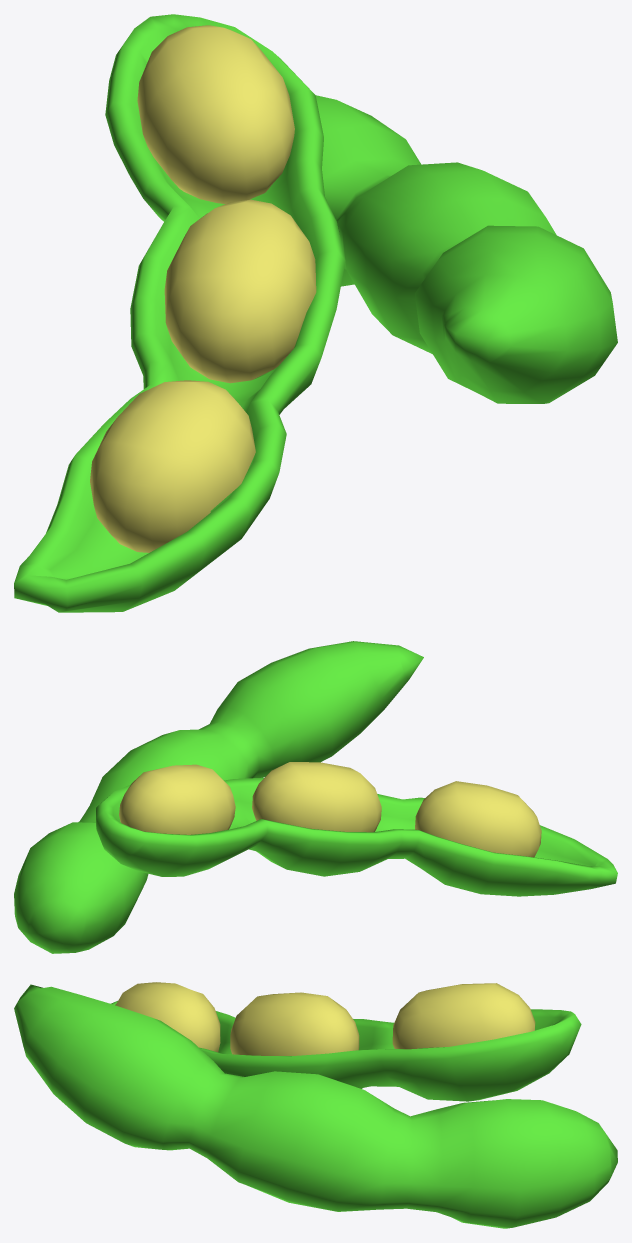
The model's file is Bobs.fbx.
3 renders of one model, top to bottom at view 1: azimuth 30°, elevation 25°; view 2: azimuth 150°, elevation 25°; view 3: azimuth 270°, elevation 25°, orthographic. The views are drawn at different scales.
Visible parts, largest first — view 1: soya; view 2: soya; view 3: soya.
Boxes of the visible parts, box(x1,y1,x2,y2) form: soya: box(14, 14, 617, 612); soya: box(14, 641, 617, 953); soya: box(14, 982, 617, 1228).
Size of the model in its own units: 61.91 by 25.87 by 70.14.
